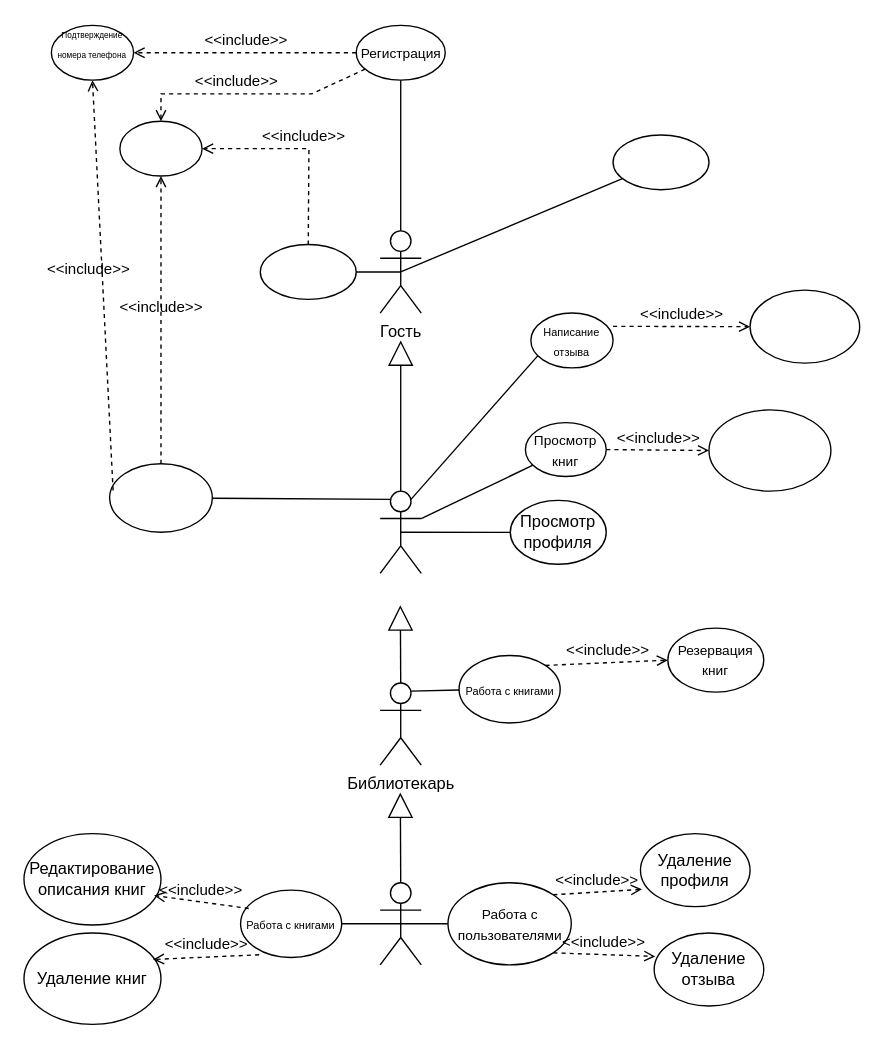
Image size: 884x1049. Some labels were removed from this diagram. The centre of each missing label's shape, as x and y in pixels:
"Админ" goes at (400,923).
"Вход" goes at (307,271).
"Запуск приложения" goes at (660,162).
"Подтверждение адреса эл.почты" goes at (160,148).
"Просмотр описания книги" goes at (769,450).
"Редактирование отзыва" goes at (804,326).
"Редактирование профиля" goes at (160,497).
"Читатель" goes at (400,531).
